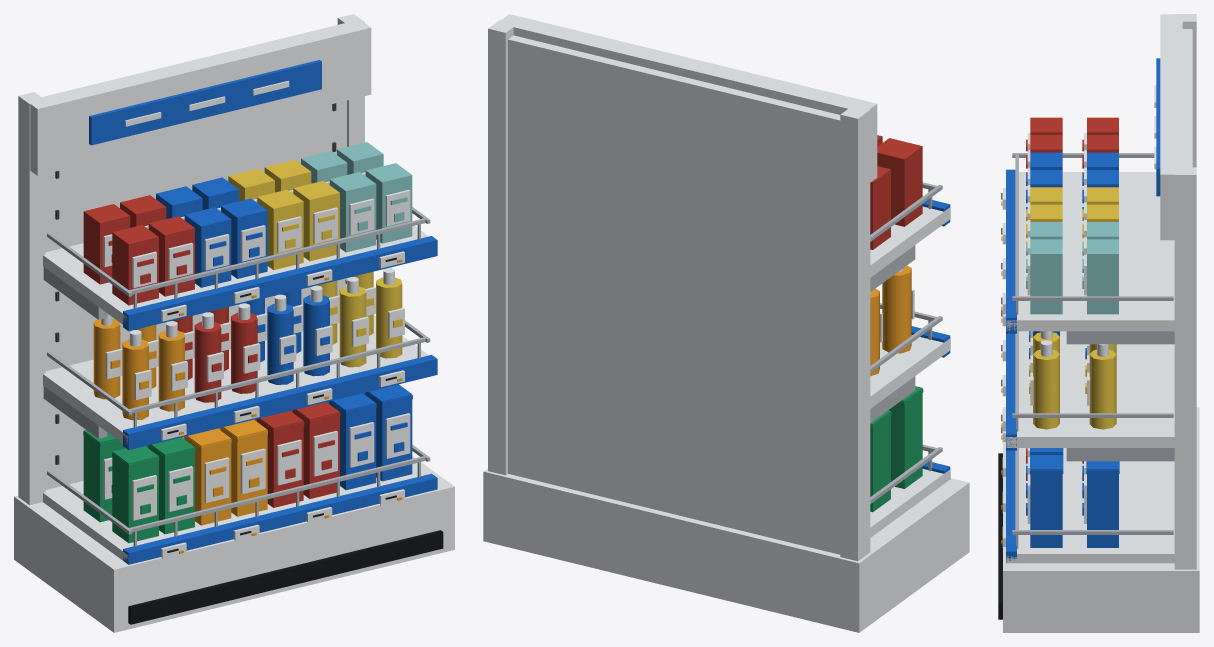
The model's file is shelf-white-short.glb.
The picture shows the model from 3 angles, left to right: view 1: azimuth 30°, elevation 25°; view 2: azimuth 150°, elevation 25°; view 3: azimuth 270°, elevation 25°; orthographic projection. The views are drawn at different scales.
Visible parts, largest first — view 1: shelf-base, ShelfWhiteShort, stock-labels_eef1f4, shelf-back, shelf-header, stock-packages_bc3a2f, shelf-details_b7bdc4, shelf-post-left, stock-packages_1b6fd6, shelf-deck-1, stock-packages_1f9c63, shelf-base-trim (+15 smaller); view 2: shelf-back, shelf-base, shelf-post-left, shelf-post-right, shelf-header, stock-packages_1f9c63, stock-packages_bc3a2f, shelf-details_b7bdc4, stock-bottles_f0a128, shelf-deck-1, shelf-deck-2, shelf-deck-0 (+1 smaller); view 3: shelf-base, shelf-deck-2, shelf-deck-1, shelf-deck-0, shelf-post-right, stock-packages_1b6fd6, shelf-details_b7bdc4, stock-packages_8ccaca, ShelfWhiteShort, shelf-header, stock-bottles_e6c543, stock-labels_eef1f4 (+8 smaller).
Boxes of the visible parts, box(x1,y1,x2,y2) form: shelf-base: box(14, 456, 454, 632); ShelfWhiteShort: box(89, 60, 437, 564); stock-labels_eef1f4: box(103, 172, 410, 559); shelf-back: box(45, 100, 346, 489); shelf-header: box(30, 22, 371, 175); stock-packages_bc3a2f: box(83, 195, 339, 507); shelf-details_b7bdc4: box(43, 207, 430, 546); shelf-post-left: box(18, 92, 45, 505); stock-packages_1b6fd6: box(156, 177, 412, 490); shelf-deck-1: box(43, 315, 428, 444); stock-packages_1f9c63: box(83, 430, 194, 543); shelf-base-trim: box(128, 530, 443, 624); shelf-back: box(508, 35, 840, 554); shelf-base: box(483, 468, 969, 632); shelf-post-left: box(840, 105, 870, 561); shelf-post-right: box(488, 19, 517, 475); shelf-header: box(502, 14, 877, 182); stock-packages_1f9c63: box(870, 386, 922, 512); stock-packages_bc3a2f: box(870, 135, 922, 249); shelf-details_b7bdc4: box(870, 182, 942, 503); stock-bottles_f0a128: box(870, 265, 911, 376); shelf-deck-1: box(870, 335, 949, 408); shelf-deck-2: box(870, 206, 949, 277); shelf-deck-0: box(870, 469, 949, 537); shelf-base: box(1003, 407, 1199, 632); shelf-deck-2: box(1006, 172, 1174, 331); shelf-deck-1: box(1006, 331, 1174, 447); shelf-deck-0: box(1006, 448, 1174, 563); shelf-post-right: box(1174, 167, 1196, 569); stock-packages_1b6fd6: box(1030, 152, 1118, 547); shelf-details_b7bdc4: box(1012, 153, 1174, 548); stock-packages_8ccaca: box(1030, 222, 1118, 314); ShelfWhiteShort: box(1006, 58, 1160, 562); shelf-header: box(1160, 14, 1182, 240); stock-bottles_e6c543: box(1033, 332, 1116, 429); stock-labels_eef1f4: box(1002, 133, 1089, 547).
Size of the model in its own units: 0.96 by 1.25 by 0.5.
